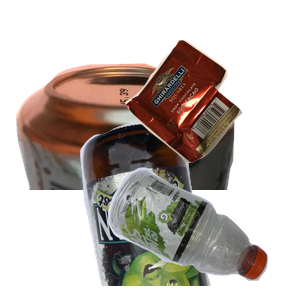glass: (78, 120, 281, 300)
metal: (13, 61, 240, 241)
plastic: (105, 165, 300, 300)
trash: (123, 37, 300, 192)
